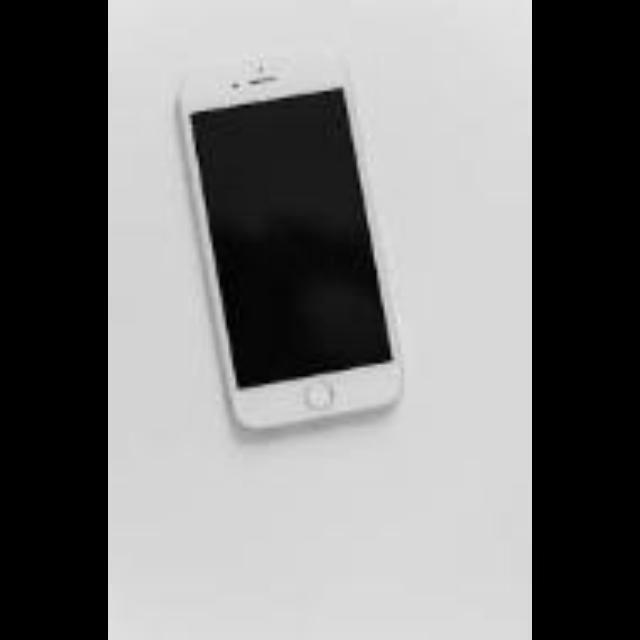fake: (187, 80, 396, 422)
